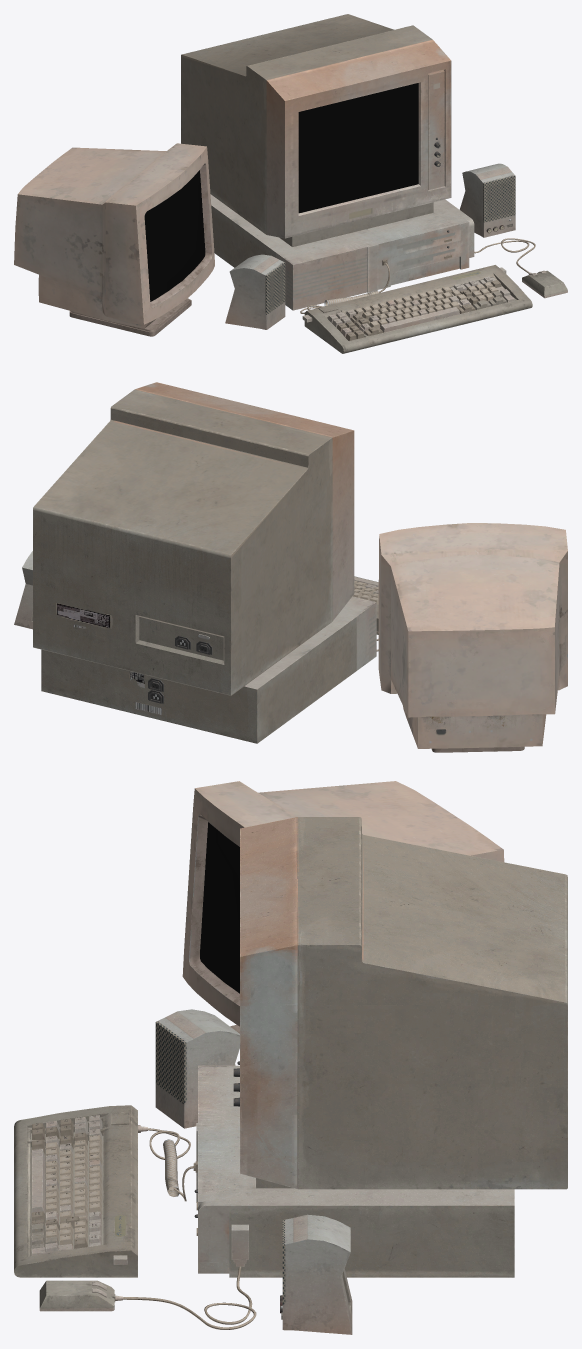
File: computer.glb
The picture shows the model from 3 angles, top to bottom: view 1: azimuth 30°, elevation 25°; view 2: azimuth 150°, elevation 25°; view 3: azimuth 270°, elevation 25°; orthographic projection. The views are drawn at different scales.
Visible parts, largest first — view 1: SM_Computer_A.mo, SM_Computer_B_Monitor.mo_MI_Computer_B_0.001, Plane, SM_Computer_A.mo_MI_Computer_A2_0.002, Plane.001; view 2: SM_Computer_A.mo, SM_Computer_B_Monitor.mo_MI_Computer_B_0.001; view 3: SM_Computer_A.mo, SM_Computer_B_Monitor.mo_MI_Computer_B_0.001, Plane.001.
Boxes of the visible parts, bbox=[...] form: SM_Computer_A.mo: bbox=[181, 14, 567, 353]; SM_Computer_B_Monitor.mo_MI_Computer_B_0.001: bbox=[14, 143, 214, 336]; Plane: bbox=[298, 83, 418, 213]; SM_Computer_A.mo_MI_Computer_A2_0.002: bbox=[285, 60, 450, 237]; Plane.001: bbox=[144, 170, 205, 301]; SM_Computer_A.mo: bbox=[14, 382, 378, 743]; SM_Computer_B_Monitor.mo_MI_Computer_B_0.001: bbox=[378, 523, 567, 752]; SM_Computer_A.mo: bbox=[14, 817, 567, 1334]; SM_Computer_B_Monitor.mo_MI_Computer_B_0.001: bbox=[182, 781, 504, 1033]; Plane.001: bbox=[200, 822, 239, 993].
Size of the model in its own units: 1.4 by 0.5883 by 0.9062.
Materials: 5 (3 with a texture image).
